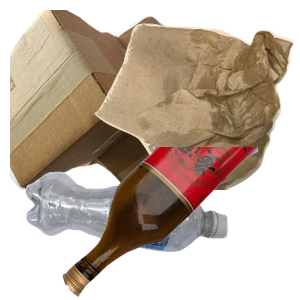cardboard: (10, 10, 206, 190)
glass: (60, 147, 300, 300)
plastic: (23, 169, 243, 300)
trash: (92, 21, 300, 201)
